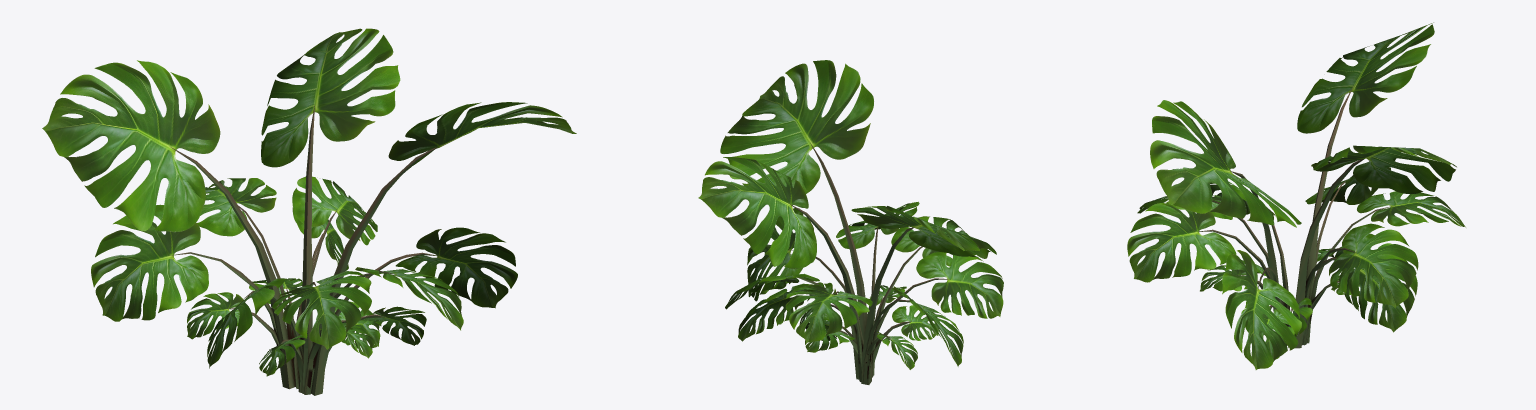
File: monstera_2.glb
3 views of the same model, side by side, from view 1: azimuth 30°, elevation 25°; view 2: azimuth 150°, elevation 25°; view 3: azimuth 270°, elevation 25° (orthographic). The views are drawn at different scales.
Visible parts, largest first — view 1: tree.003SM_MZRa_Monstera_B073_MI_MZRa_Monstera_B07a1_0, tree.003SM_MZRa_Monstera_B073_MI_MZRa_Monstera_B07b_0; view 2: tree.003SM_MZRa_Monstera_B073_MI_MZRa_Monstera_B07a1_0, tree.003SM_MZRa_Monstera_B073_MI_MZRa_Monstera_B07b_0; view 3: tree.003SM_MZRa_Monstera_B073_MI_MZRa_Monstera_B07a1_0, tree.003SM_MZRa_Monstera_B073_MI_MZRa_Monstera_B07b_0.
Part boxes in pixels (x1=…): tree.003SM_MZRa_Monstera_B073_MI_MZRa_Monstera_B07a1_0: x1=42, y1=28, x2=576, y2=376; tree.003SM_MZRa_Monstera_B073_MI_MZRa_Monstera_B07b_0: x1=168, y1=104, x2=436, y2=395; tree.003SM_MZRa_Monstera_B073_MI_MZRa_Monstera_B07a1_0: x1=698, y1=60, x2=1003, y2=369; tree.003SM_MZRa_Monstera_B073_MI_MZRa_Monstera_B07b_0: x1=788, y1=142, x2=949, y2=384; tree.003SM_MZRa_Monstera_B073_MI_MZRa_Monstera_B07a1_0: x1=1127, y1=22, x2=1465, y2=369; tree.003SM_MZRa_Monstera_B073_MI_MZRa_Monstera_B07b_0: x1=1197, y1=85, x2=1392, y2=348.
Size of the model in its own units: 3.46 by 2.37 by 3.23.
2 materials, 2 textured.
